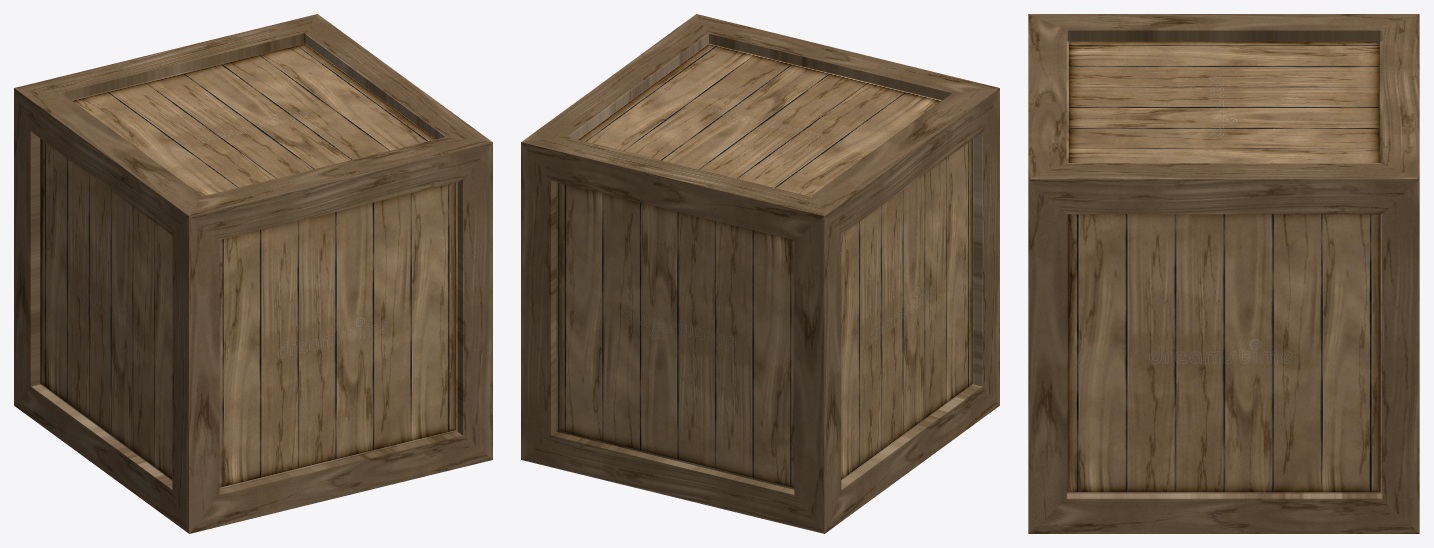
Rendered from bg_crate.fbx.
The picture shows the model from 3 angles, left to right: view 1: azimuth 30°, elevation 25°; view 2: azimuth 150°, elevation 25°; view 3: azimuth 270°, elevation 25°; orthographic projection. The views are drawn at different scales.
Parts seen in each view (by area): view 1: Crate; view 2: Crate; view 3: Crate.
Boxes of the visible parts, left/top/right/bottom form: Crate: left=14, top=14, right=492, bottom=533; Crate: left=521, top=14, right=999, bottom=533; Crate: left=1028, top=14, right=1419, bottom=533.
Size of the model in its own units: 0.6535 by 0.6535 by 0.6535.
